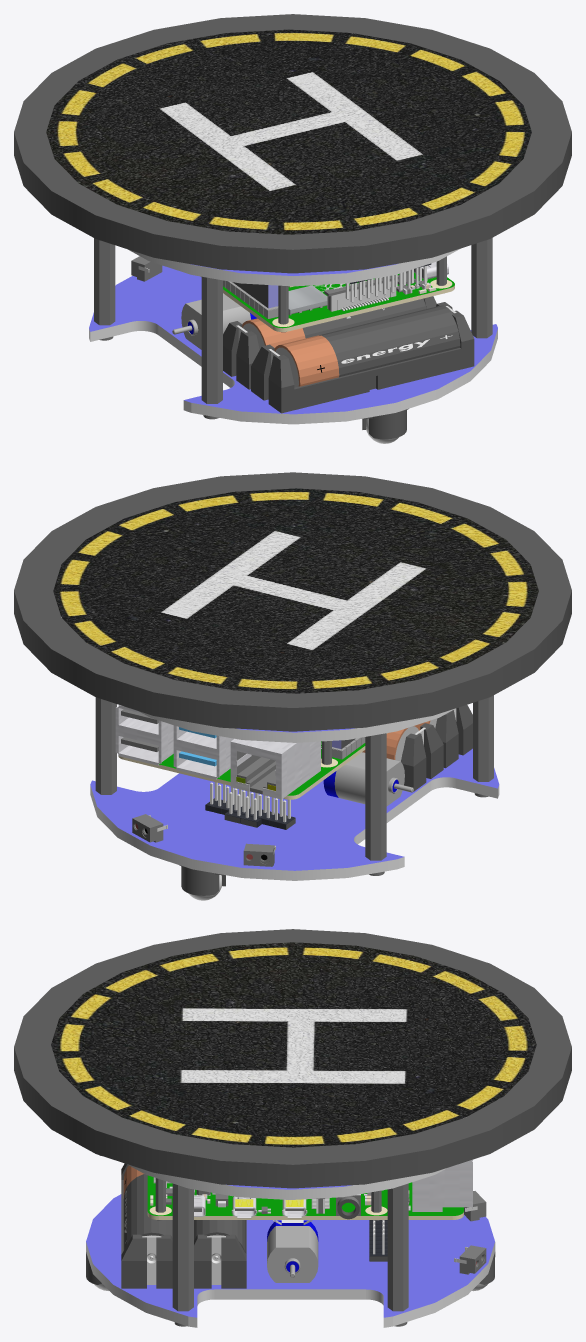
Rendered from body.dae.
3 views of the same model, one above another, from view 1: azimuth 30°, elevation 25°; view 2: azimuth 150°, elevation 25°; view 3: azimuth 270°, elevation 25° (orthographic).
Visible parts, largest first — view 1: Geom3D.172, Geom3D.167, Geom3D1.089, Geom3D.193, Geom3D1.074, Geom3D.123, Geom3D_topplate, Geom3D.211, Geom3D.212, Geom3D.153, Geom3D.173, Geom3D.191 (+8 smaller); view 2: Geom3D.172, Geom3D.167, Geom3D1.089, Geom3D.123, Geom3D.265, Geom3D_topplate, Geom3D.191, Geom3D.169, Geom3D.174, Geom3D.173, Geom3D.168, Geom3D.166 (+9 smaller); view 3: Geom3D.172, Geom3D.167, Geom3D1.089, Geom3D.123, Geom3D_topplate, Geom3D.091, Geom3D.166, Geom3D.212, Geom3D.193, Geom3D_PCB, Geom3D.169, Geom3D.173 (+6 smaller).
Boxes of the visible parts, x1,y1,x2,y2 form: Geom3D.172: (46,29,531,234); Geom3D.167: (14,14,571,273); Geom3D1.089: (89,265,497,414); Geom3D.193: (251,302,474,413); Geom3D1.074: (319,305,460,377); Geom3D.123: (89,321,497,424); Geom3D_topplate: (128,248,460,286); Geom3D.211: (201,276,222,403); Geom3D.212: (471,238,492,338); Geom3D.153: (274,335,339,386); Geom3D.173: (223,296,436,389); Geom3D.191: (94,238,115,325); Geom3D.172: (53,488,538,693); Geom3D.167: (14,472,571,731); Geom3D1.089: (90,748,499,870); Geom3D.123: (90,777,499,880); Geom3D.265: (230,738,320,799); Geom3D_topplate: (139,708,455,742); Geom3D.191: (365,733,386,860); Geom3D.169: (115,705,173,765); Geom3D.174: (173,725,233,779); Geom3D.173: (401,723,443,791); Geom3D.168: (334,752,413,806); Geom3D.166: (95,697,116,794); Geom3D.172: (51,942,536,1147); Geom3D.167: (14,929,571,1188); Geom3D1.089: (86,1194,494,1317); Geom3D.123: (86,1242,495,1327); Geom3D_topplate: (127,1164,446,1199); Geom3D.091: (267,1220,318,1282); Geom3D.166: (387,1183,408,1311); Geom3D.212: (172,1183,193,1311); Geom3D.193: (121,1163,172,1288); Geom3D_PCB: (147,1175,463,1215); Geom3D.169: (412,1159,472,1211); Geom3D.173: (194,1220,246,1288).
Bounding box in the file's own units: 0.15 × 0.15 × 0.0721.
Materials: 470 (178 with a texture image).
